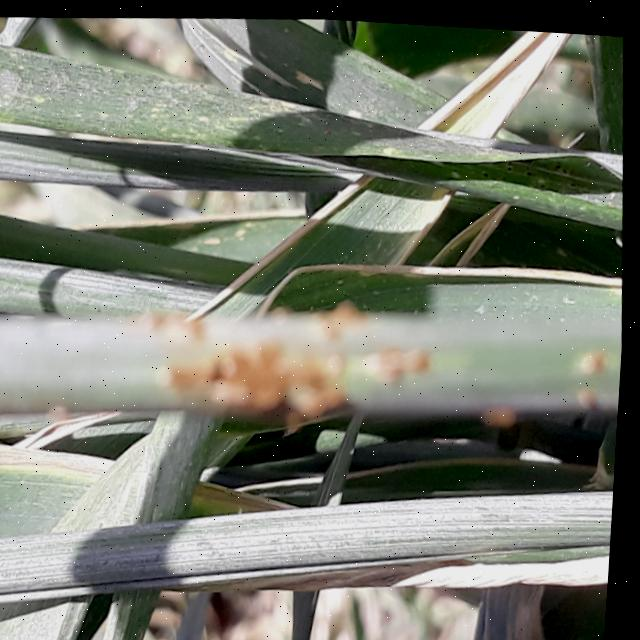black_stem_rust: (0, 226, 629, 500)
